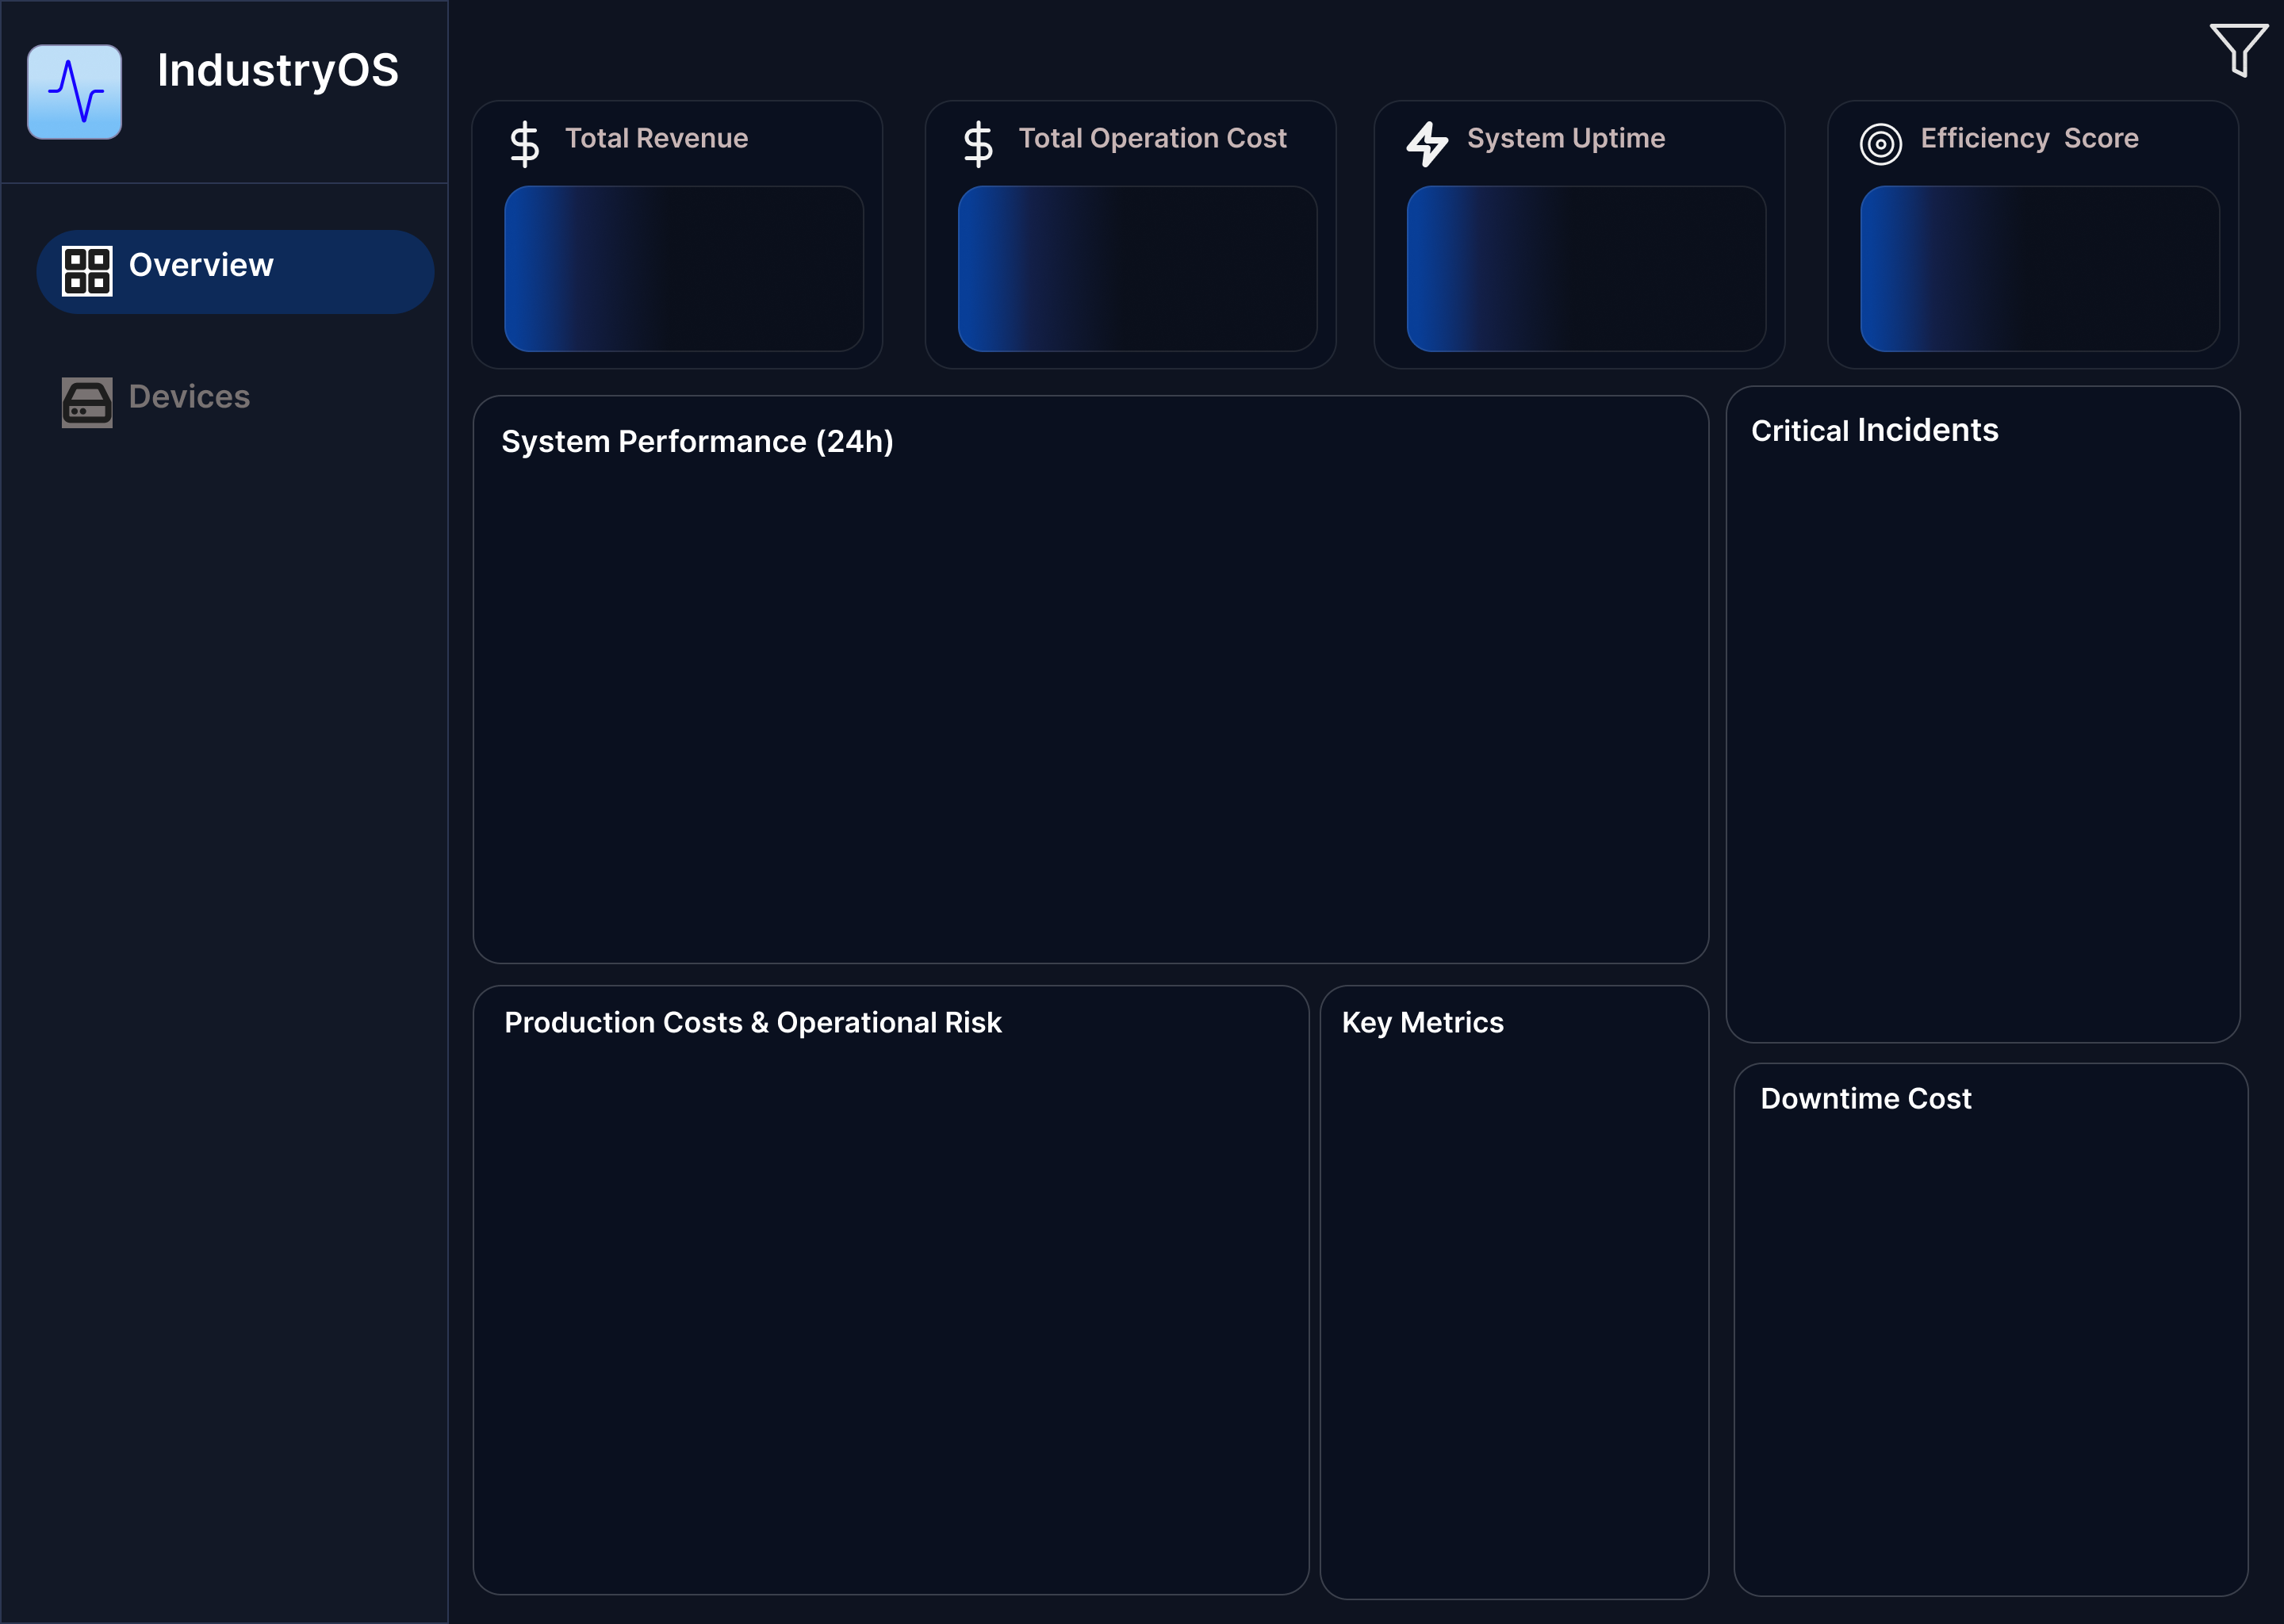

What the dashboard file says about the page in this screenshot:
{"tool":"powerbi","page":{"name":"Industry Overview","canvas":[1920,1080],"ordinal":1},"visuals":[{"type":"cardVisual","fields":{"Data":["MIARY.Total Revenue"]},"box":[437.5,122.5,320,112.5],"z":1000},{"type":"cardVisual","fields":{"Data":["Miary.Avg_OEE"]},"box":[1565,132.5,307.5,107.5],"z":2000},{"type":"cardVisual","fields":{"Data":["Miary.System_Uptime"]},"box":[1187.5,122.5,302.5,125],"z":3000},{"type":"stackedAreaChart","fields":{"Category":["Fact_IndustryRisk.Blok_4h"],"Y":["Miary.Avg_OEE"]},"box":[386,272,1072,358],"z":4000},{"type":"pivotTable","fields":{"Rows":["Fact_IndustryRisk.production_line"],"Values":["Miary.Total_Maintenance_Cost","Miary.Total_Downtime_Hours"]},"box":[1458,738,438,342],"z":5000},{"type":"donutChart","fields":{"Category":["Fact_IndustryRisk.production_line"],"Y":["CountNonNull(Fact_IndustryRisk.record_id)"]},"box":[1435,305,448,390],"z":6000},{"type":"cardVisual","fields":{"Data":["MIARY.Order Fulfillment Rate","MIARY.Total_Maintenance_Cost","MIARY.Energy_Usage"]},"box":[1120,695,307.5,365],"z":7000},{"type":"actionButton","box":[1845,0,75,72.5],"z":13000},{"type":"cardVisual","fields":{"Data":["MIARY.Total Operation Cost"]},"box":[800,122.5,320,112.5],"z":14000},{"type":"lineStackedColumnComboChart","fields":{"Category":["Dim_Production_Lines.production_line"],"Y":["Sum(Fact_IndustryRisk.operating_cost)","Sum(Fact_IndustryRisk.labor_cost)"],"Y2":["Avg(Fact_IndustryRisk.operational_risk_score)"]},"box":[385,695,760,385],"z":15000},{"type":"actionButton","box":[22.5,227.5,250,90],"z":15001}]}

Visuals, with their boxes on the page's 1920x1080 design canvas (x1, y1, x2, y2). These are canvas units, not pixel positions in the 2284x1624 screenshot, which may show the page scaled, cropped or inside an application window:
cardVisual - MIARY.Total Revenue: x1=438, y1=122, x2=758, y2=235
cardVisual - Miary.Avg_OEE: x1=1565, y1=132, x2=1872, y2=240
cardVisual - Miary.System_Uptime: x1=1188, y1=122, x2=1490, y2=248
stackedAreaChart - Fact_IndustryRisk.Blok_4h x Miary.Avg_OEE: x1=386, y1=272, x2=1458, y2=630
pivotTable - Fact_IndustryRisk.production_line x Miary.Total_Maintenance_Cost: x1=1458, y1=738, x2=1896, y2=1080
donutChart - Fact_IndustryRisk.production_line x CountNonNull(Fact_IndustryRisk.record_id): x1=1435, y1=305, x2=1883, y2=695
cardVisual - MIARY.Order Fulfillment Rate x MIARY.Total_Maintenance_Cost: x1=1120, y1=695, x2=1428, y2=1060
actionButton: x1=1845, y1=0, x2=1920, y2=72
cardVisual - MIARY.Total Operation Cost: x1=800, y1=122, x2=1120, y2=235
lineStackedColumnComboChart - Dim_Production_Lines.production_line x Sum(Fact_IndustryRisk.operating_cost): x1=385, y1=695, x2=1145, y2=1080
actionButton: x1=22, y1=228, x2=272, y2=318
